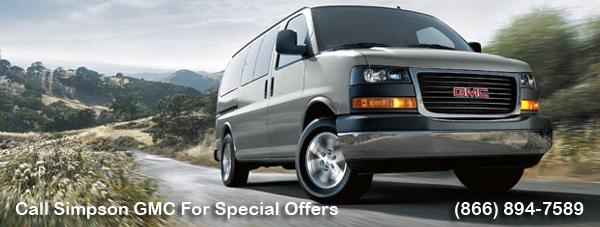GMC: (450, 83, 498, 103)
